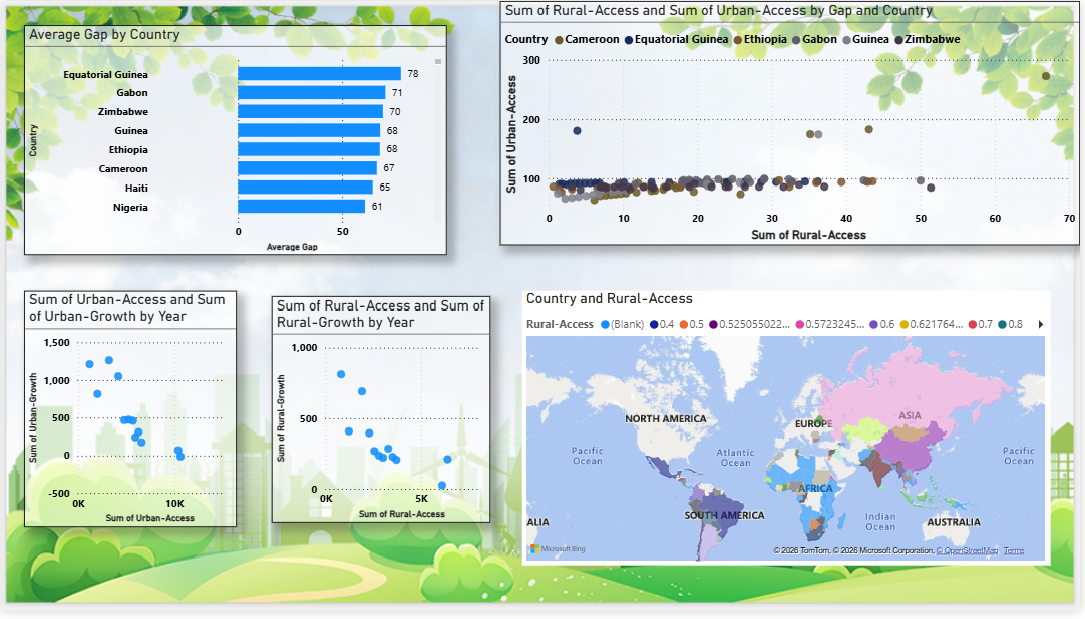

The page's visual inventory and layout, read from the dashboard file:
{"tool":"powerbi","page":{"name":"Page 4","canvas":[1280,720],"ordinal":3},"visuals":[{"type":"clusteredBarChart","fields":{"Y":["Ftable.Average Gap"],"Category":["Ftable.Country"]},"box":[25.7,28.6,501.4,271.4],"z":0},{"type":"scatterChart","fields":{"X":["Sum(Ftable.Rural-Access)"],"Y":["Sum(Ftable.Urban-Access)"],"Category":["Ftable.Gap"],"Series":["Ftable.Country"]},"box":[591.2,0,688.8,288.8],"z":1000},{"type":"scatterChart","fields":{"X":["Sum(Ftable.Rural-Access)"],"Y":["Sum(Ftable.Rural-Growth)"],"Category":["Ftable.Year"]},"box":[320,348.8,260,267.5],"z":2000},{"type":"scatterChart","fields":{"X":["Sum(Ftable.Urban-Access)"],"Y":["Sum(Ftable.Urban-Growth)"],"Category":["Ftable.Year"]},"box":[26.2,342.5,252.5,278.8],"z":3000},{"type":"filledMap","fields":{"Category":["Ftable.Country"],"Series":["Ftable.Rural-Access"]},"box":[617.5,342.5,626.2,323.8],"z":4000}]}

Visuals, with their boxes in screenshot pixels (x1, y1, x2, y2), scaled from the page's 1280x720 canvas onto the 1085x619 screenshot:
clusteredBarChart - Ftable.Average Gap x Ftable.Country: x1=22, y1=25, x2=447, y2=258
scatterChart - Sum(Ftable.Rural-Access) x Sum(Ftable.Urban-Access): x1=501, y1=0, x2=1084, y2=248
scatterChart - Sum(Ftable.Rural-Access) x Sum(Ftable.Rural-Growth): x1=271, y1=300, x2=492, y2=530
scatterChart - Sum(Ftable.Urban-Access) x Sum(Ftable.Urban-Growth): x1=22, y1=294, x2=236, y2=534
filledMap - Ftable.Country x Ftable.Rural-Access: x1=523, y1=294, x2=1054, y2=573
